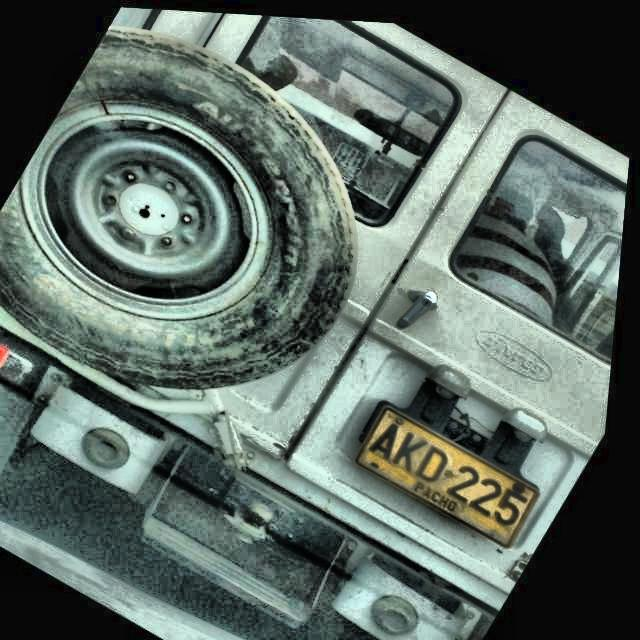plate: (354, 406, 538, 549)
